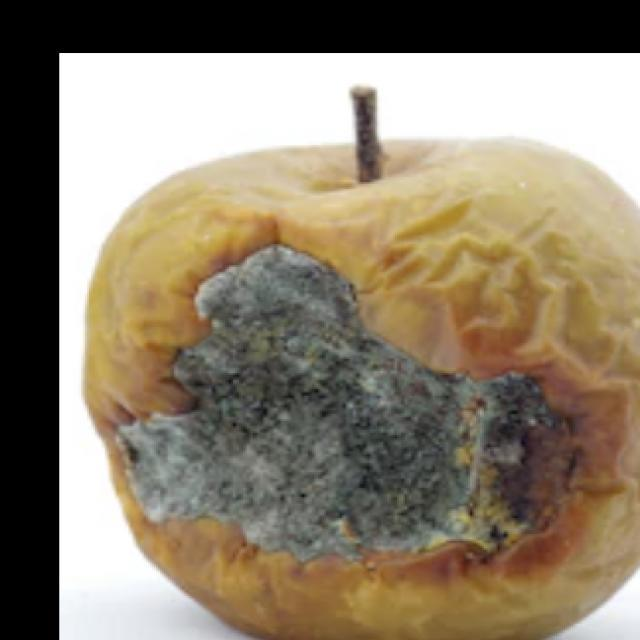Rotten: (96, 140, 640, 640)
